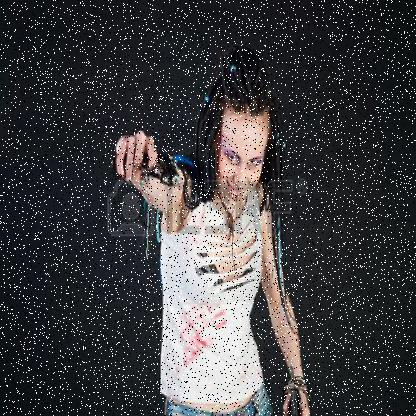pistol: (108, 137, 188, 192), (278, 366, 306, 414)
